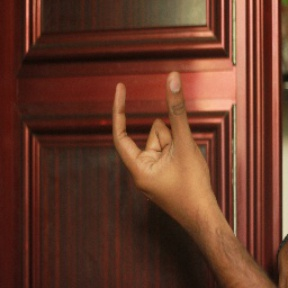U: (105, 66, 209, 199)
